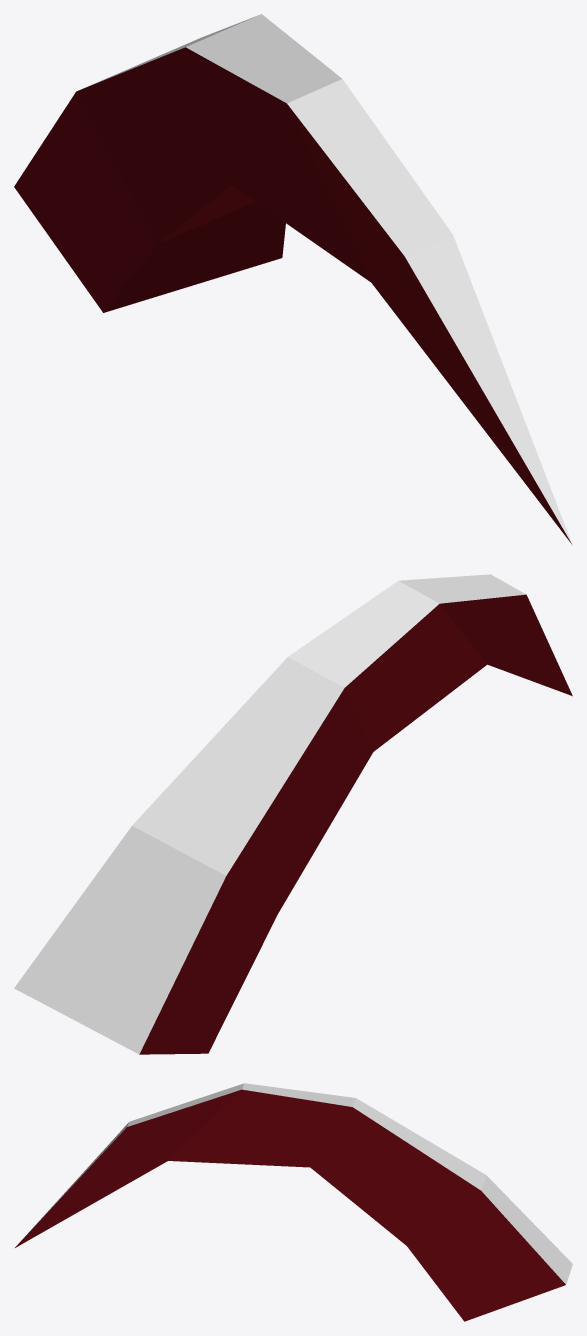
Rendered from parmak.fbx.
3 views of the same model, one above another, from view 1: azimuth 30°, elevation 25°; view 2: azimuth 150°, elevation 25°; view 3: azimuth 270°, elevation 25° (orthographic). The views are drawn at different scales.
Visible parts, largest first — view 1: Cube.012; view 2: Cube.012; view 3: Cube.012.
Part boxes in pixels (bbox=[...]): Cube.012: bbox=[14, 14, 572, 544]; Cube.012: bbox=[14, 574, 572, 1054]; Cube.012: bbox=[15, 1083, 572, 1321].
Size of the model in its own units: 73.58 by 136 by 331.
